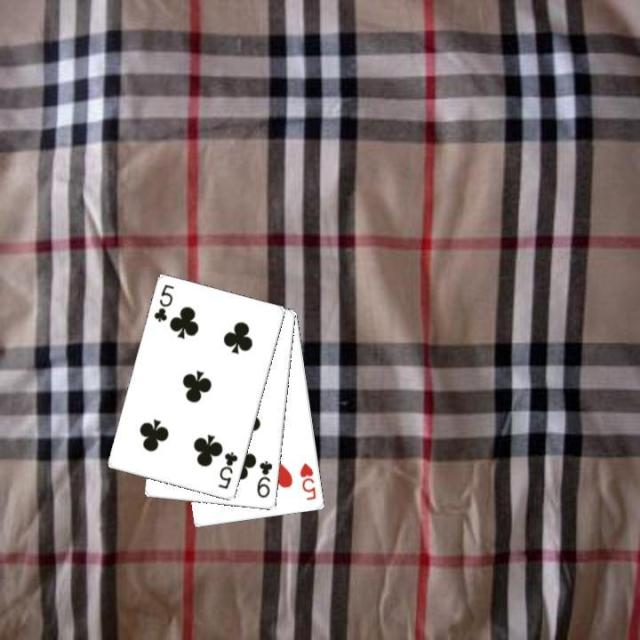5C: (214, 448, 240, 492), (150, 281, 176, 324)
5H: (296, 460, 318, 502)
9C: (253, 457, 275, 499)
